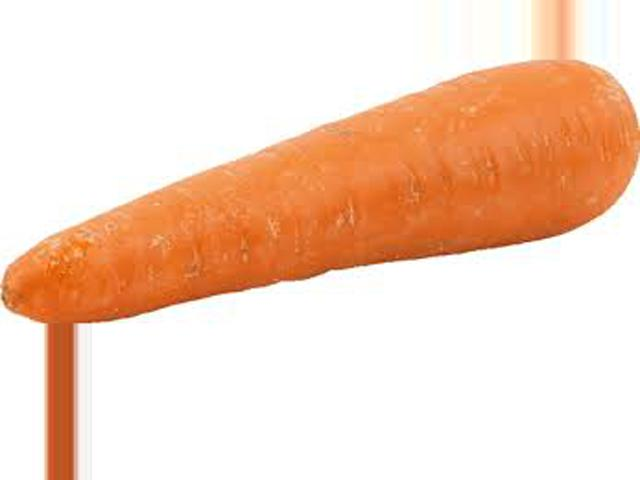carrot: (2, 60, 633, 321)
